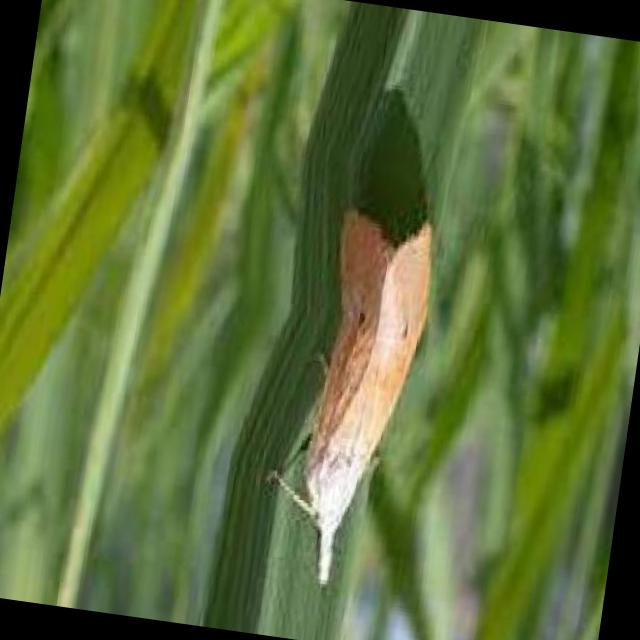stem-borer: (251, 198, 442, 600)
